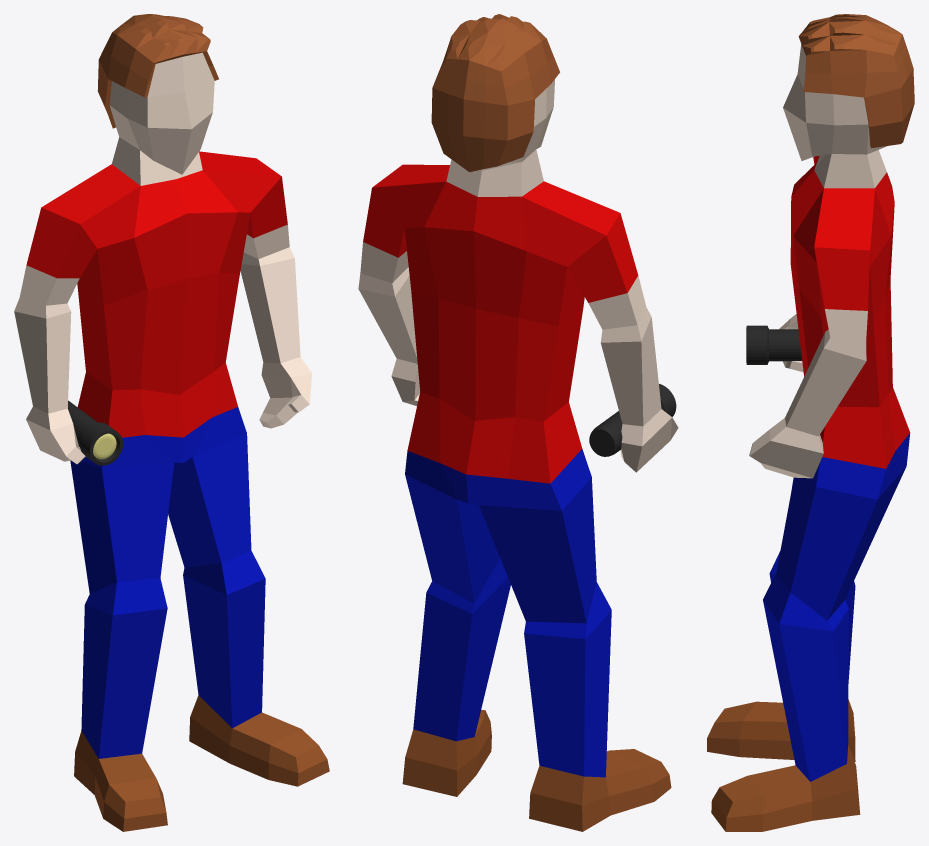
File: Human_grabbing_3.fbx
3 views of the same model, side by side, from view 1: azimuth 30°, elevation 25°; view 2: azimuth 150°, elevation 25°; view 3: azimuth 270°, elevation 25° (orthographic). The views are drawn at different scales.
Visible parts, largest first — view 1: Person.003, Cylinder.002; view 2: Person.003, Cylinder.002; view 3: Person.003, Cylinder.002.
Boxes of the visible parts, x1,y1,x2,y2 form: Person.003: (14, 14, 329, 831); Cylinder.002: (68, 400, 122, 465); Person.003: (358, 14, 678, 831); Cylinder.002: (589, 384, 676, 456); Person.003: (707, 14, 914, 831); Cylinder.002: (746, 325, 802, 364).
Size of the model in its own units: 0.5865 by 1.58 by 0.3878.
